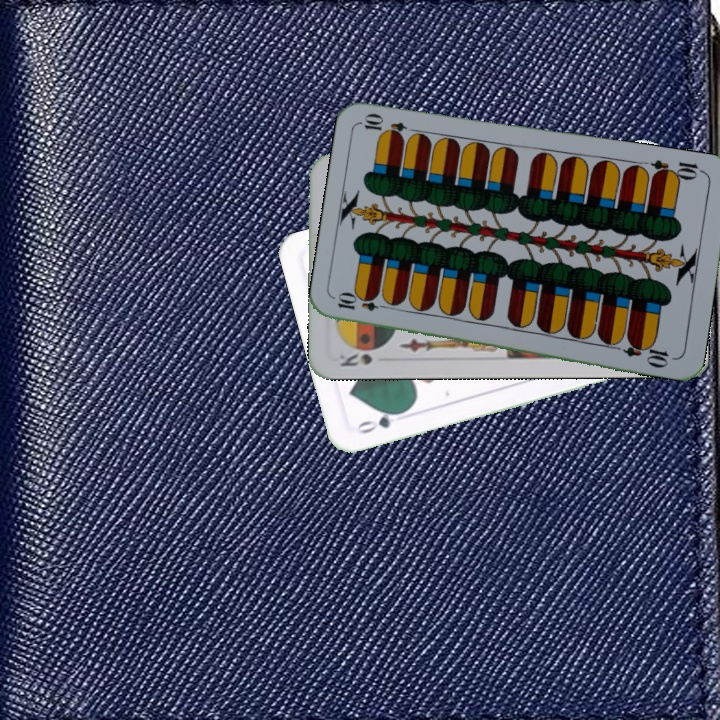E10: (648, 156, 707, 184), (334, 292, 393, 314)
GO: (353, 407, 408, 437)
SK: (335, 348, 375, 369)
